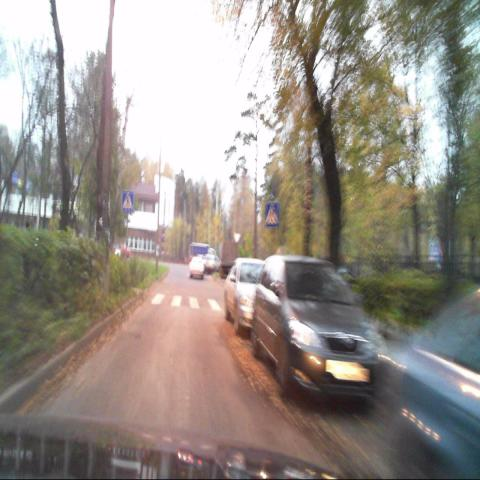5_19_1: (265, 202, 279, 228)
